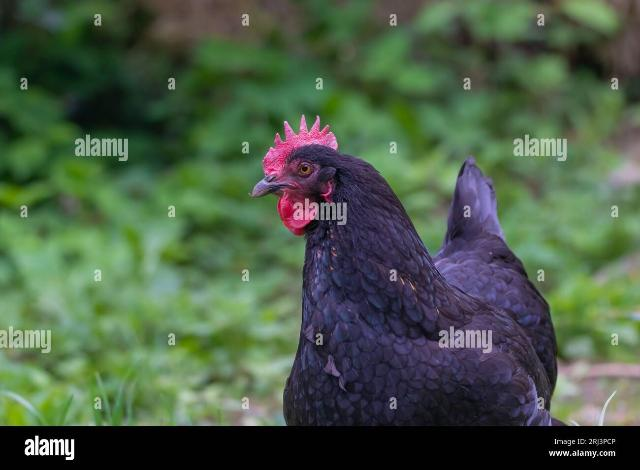Chicken: (247, 113, 563, 426)
